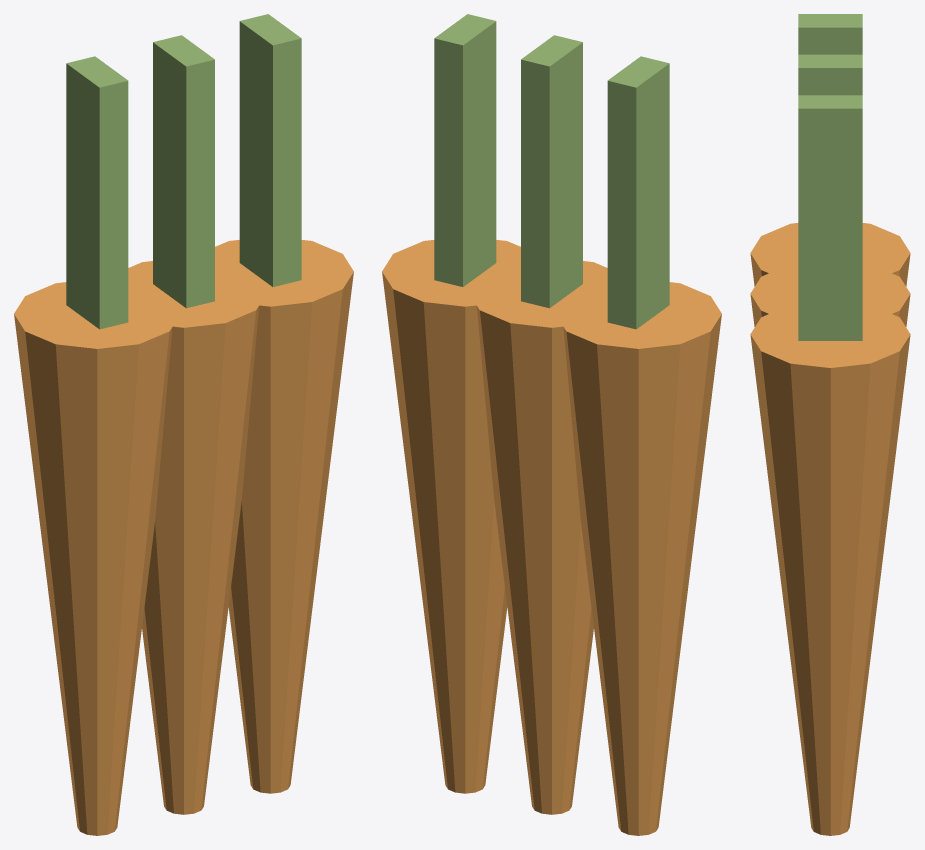
The model's file is supermarket-operations-carrot-bunch-59c42623__26913.glb.
3 views of the same model, side by side, from view 1: azimuth 30°, elevation 25°; view 2: azimuth 150°, elevation 25°; view 3: azimuth 270°, elevation 25° (orthographic). The views are drawn at different scales.
Visible parts, largest first — view 1: carrot-bunch; view 2: carrot-bunch; view 3: carrot-bunch.
Part boxes in pixels (x1=…): carrot-bunch: x1=14, y1=14, x2=353, y2=835; carrot-bunch: x1=382, y1=14, x2=721, y2=835; carrot-bunch: x1=750, y1=14, x2=910, y2=835.
Size of the model in its own units: 0.11 by 0.25 by 0.05.
